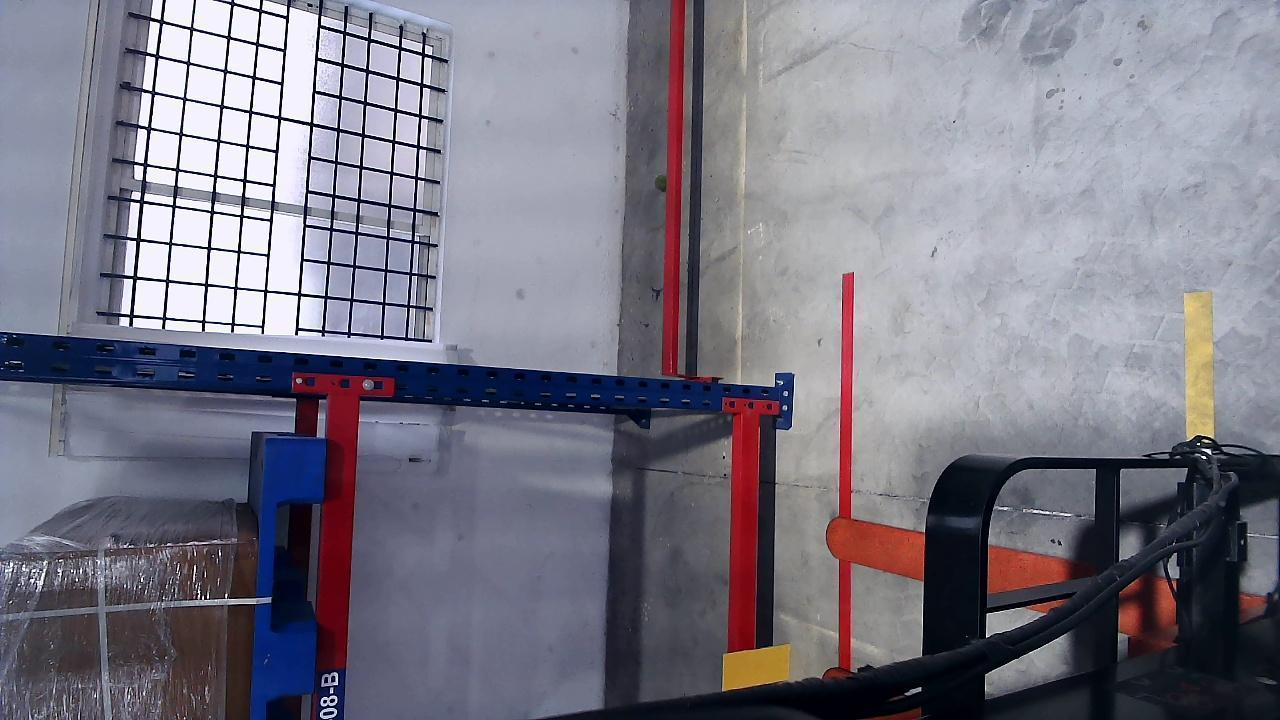red_line: (837, 271, 855, 673)
yellow_line: (1184, 290, 1215, 438)
